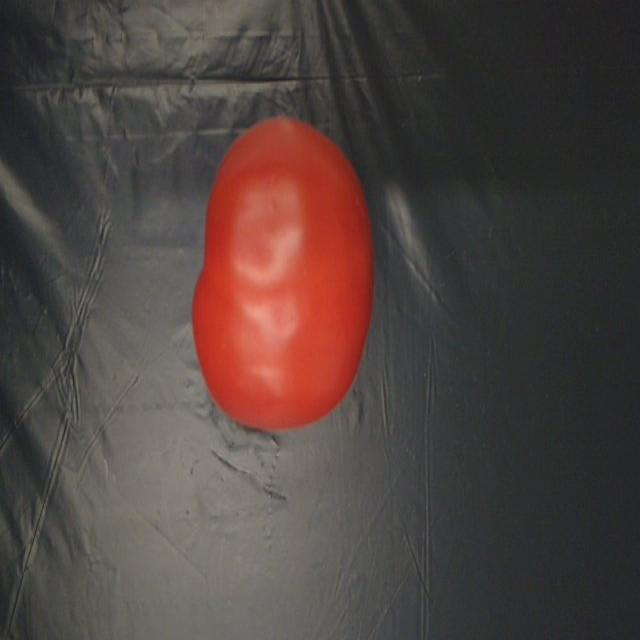kirmizi: (187, 84, 372, 438)
